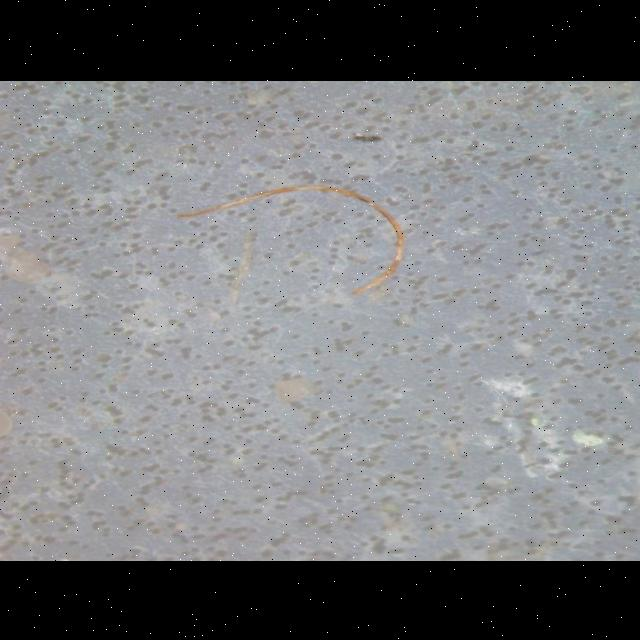Fibre: (174, 184, 406, 300)
